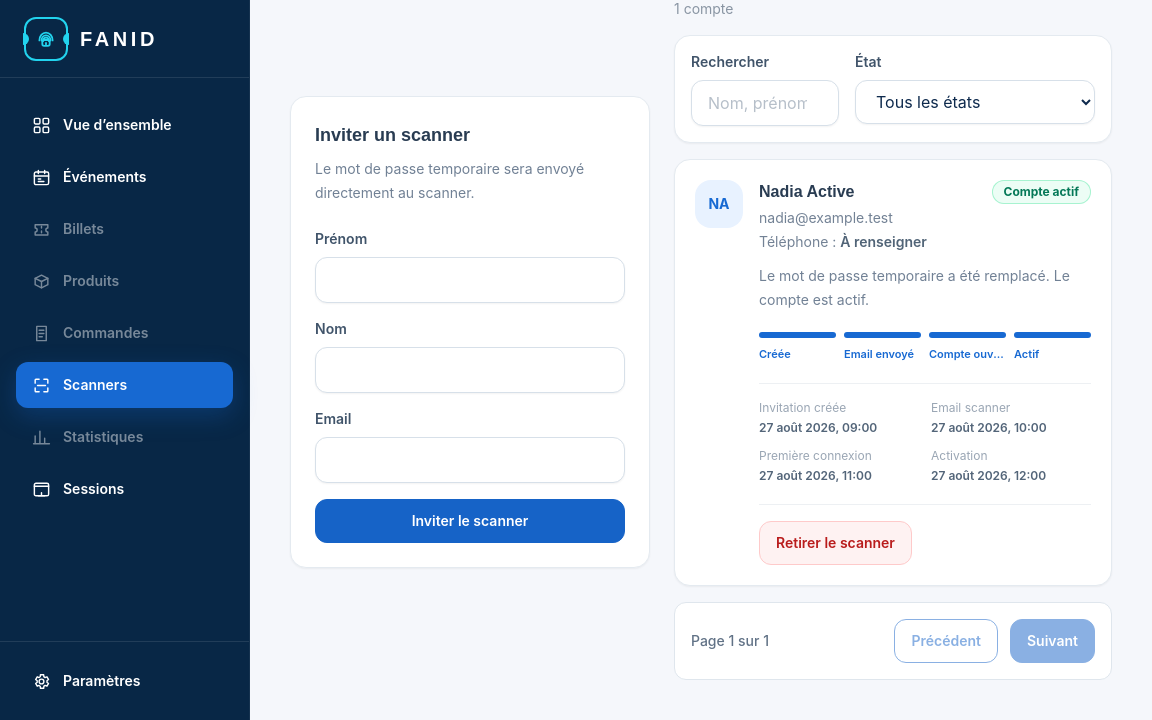
OrganizerScannersPage - OTP actions sensibles › conserve la modale de retrait si la création du challenge échoue
(page scrolled)
Click the button "Retirer le scanner". click: [835, 542]
box: [759, 520, 912, 564]
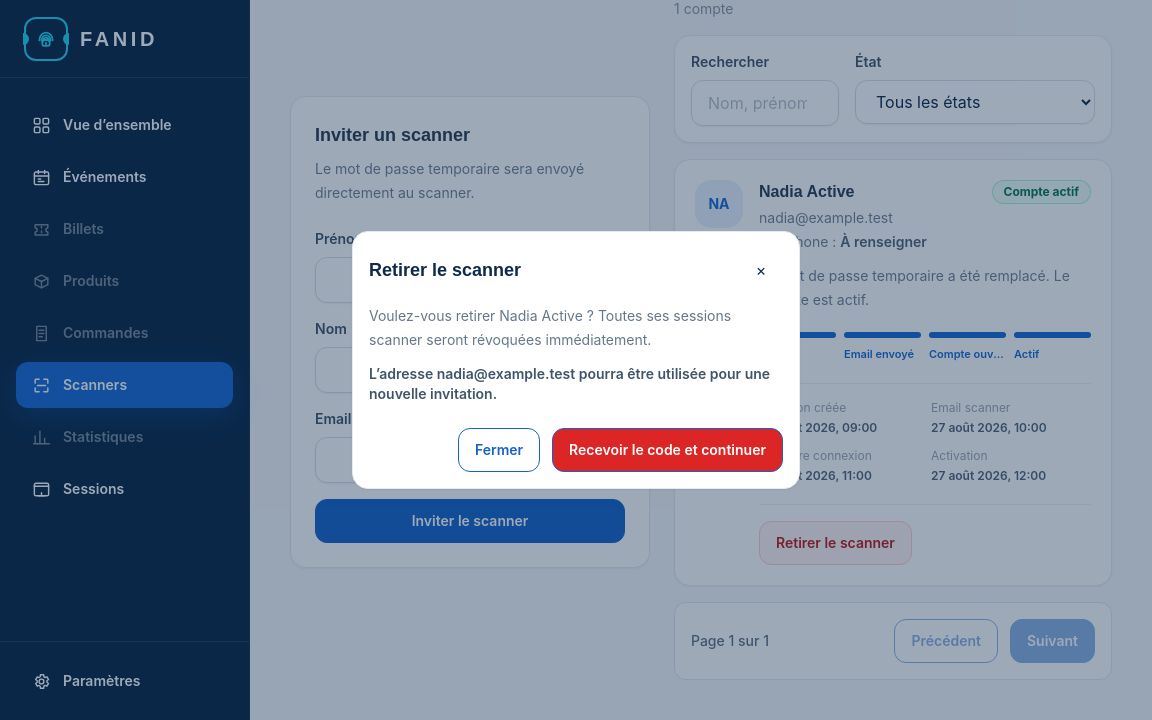
expect the dialog "Retirer le scanner" is shown: met
Click the button "Recevoir le code et continuer". click: [668, 450]
box: [552, 428, 783, 472]
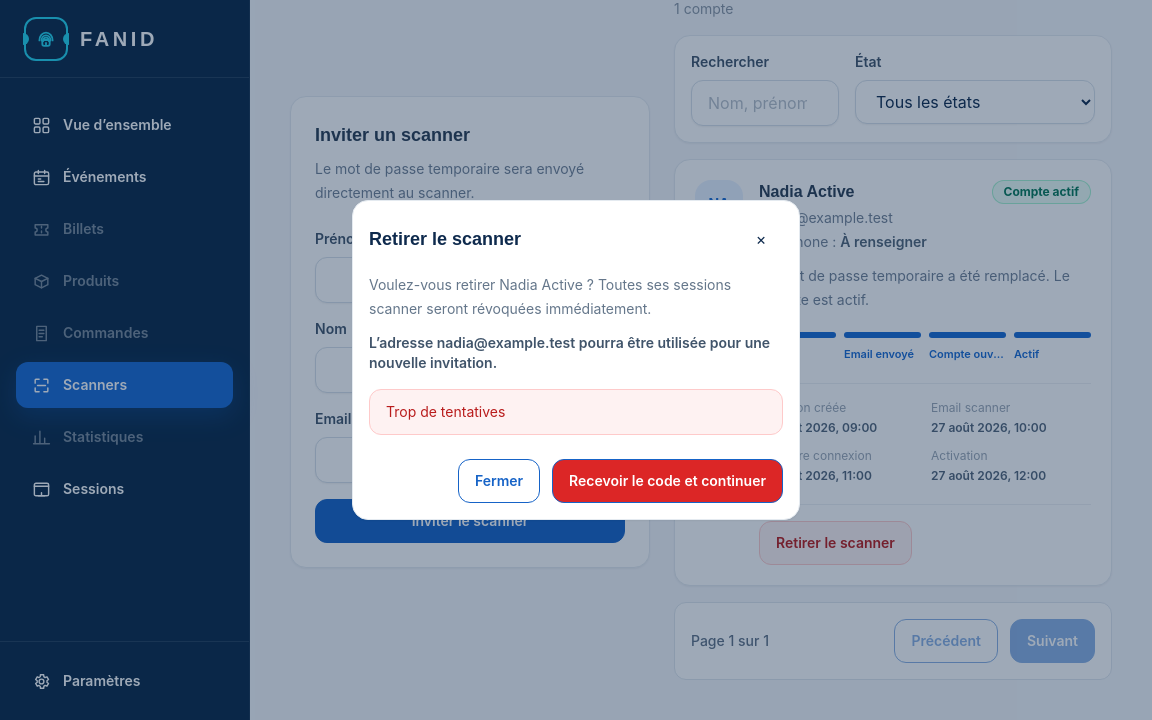
expect the dialog "Retirer le scanner" is shown: met
expect the message reads "Trop de tentatives": met, box [386, 403, 505, 420]
